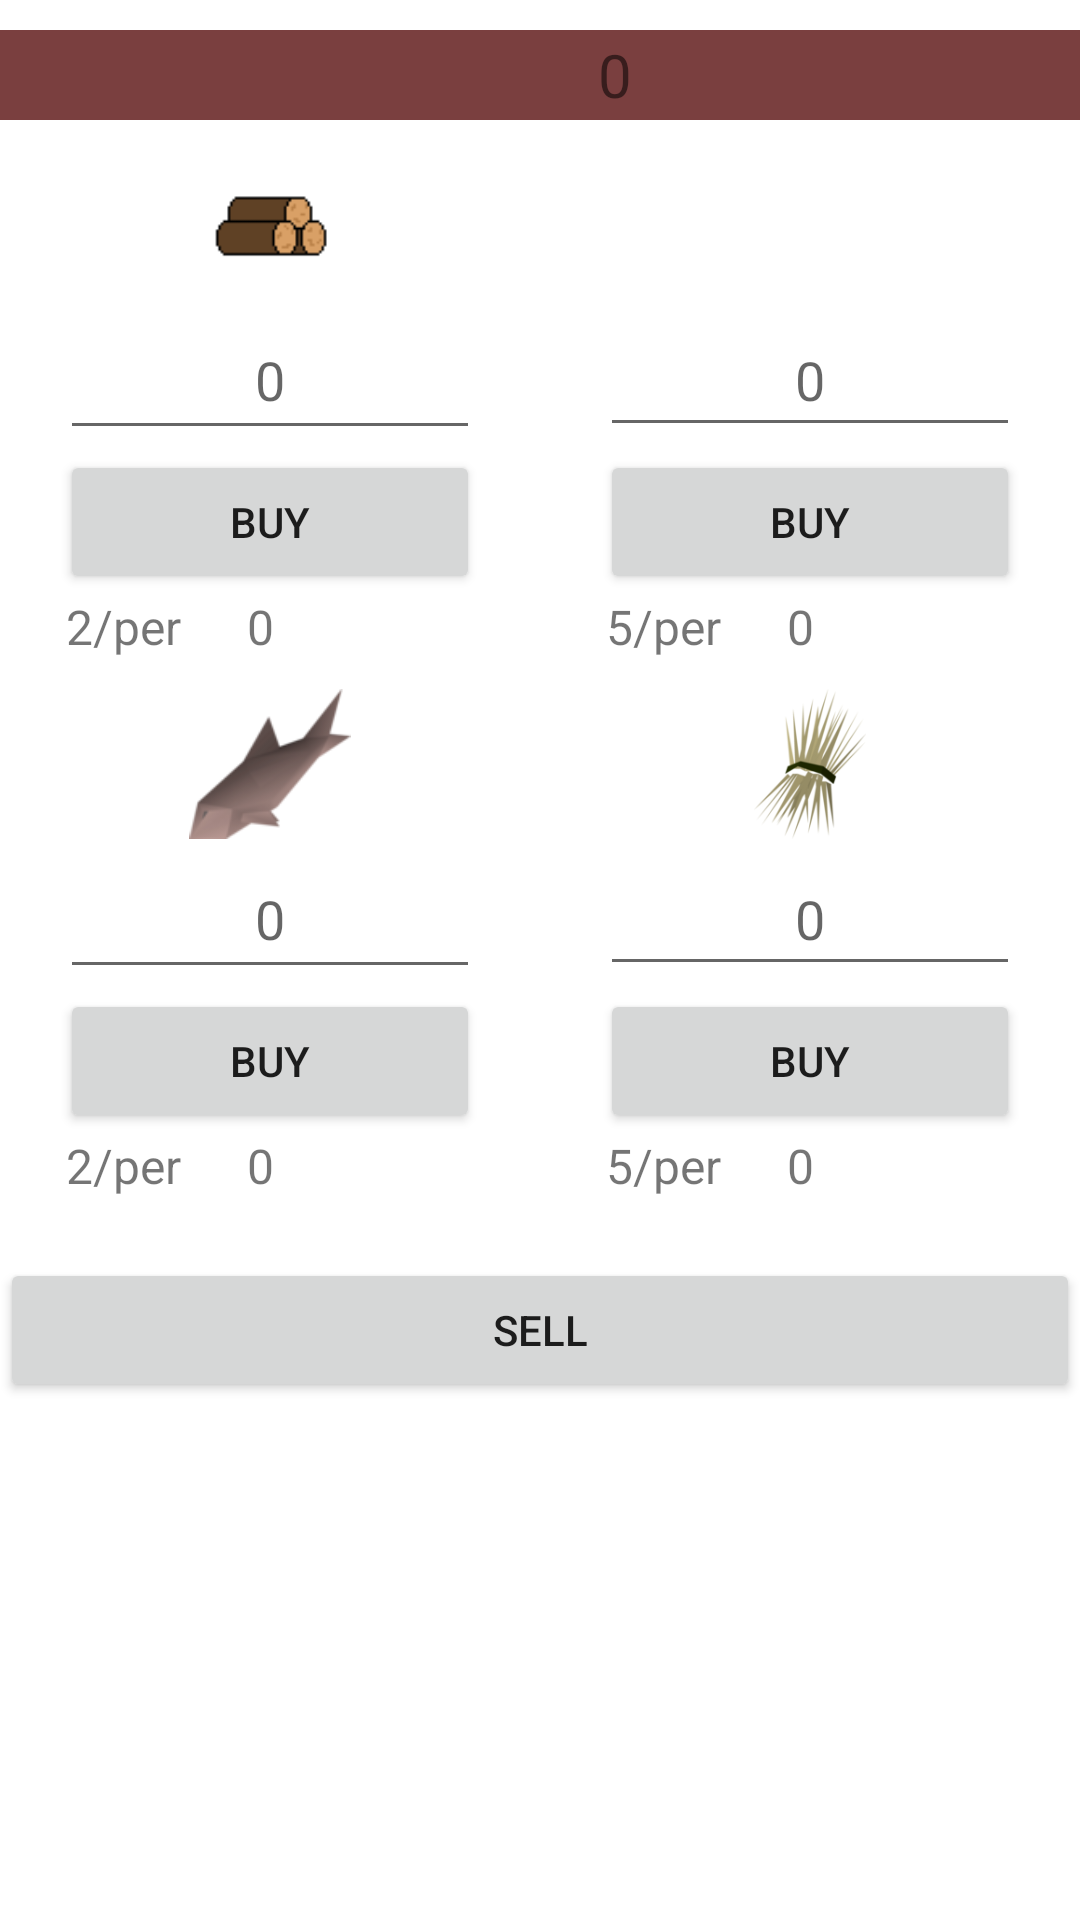

Screen size 1080*1920. Icon name, then its center in pixels as (x=x, y=y):
grain: (x=810, y=764)
logs: (x=271, y=226)
trout: (x=270, y=764)
